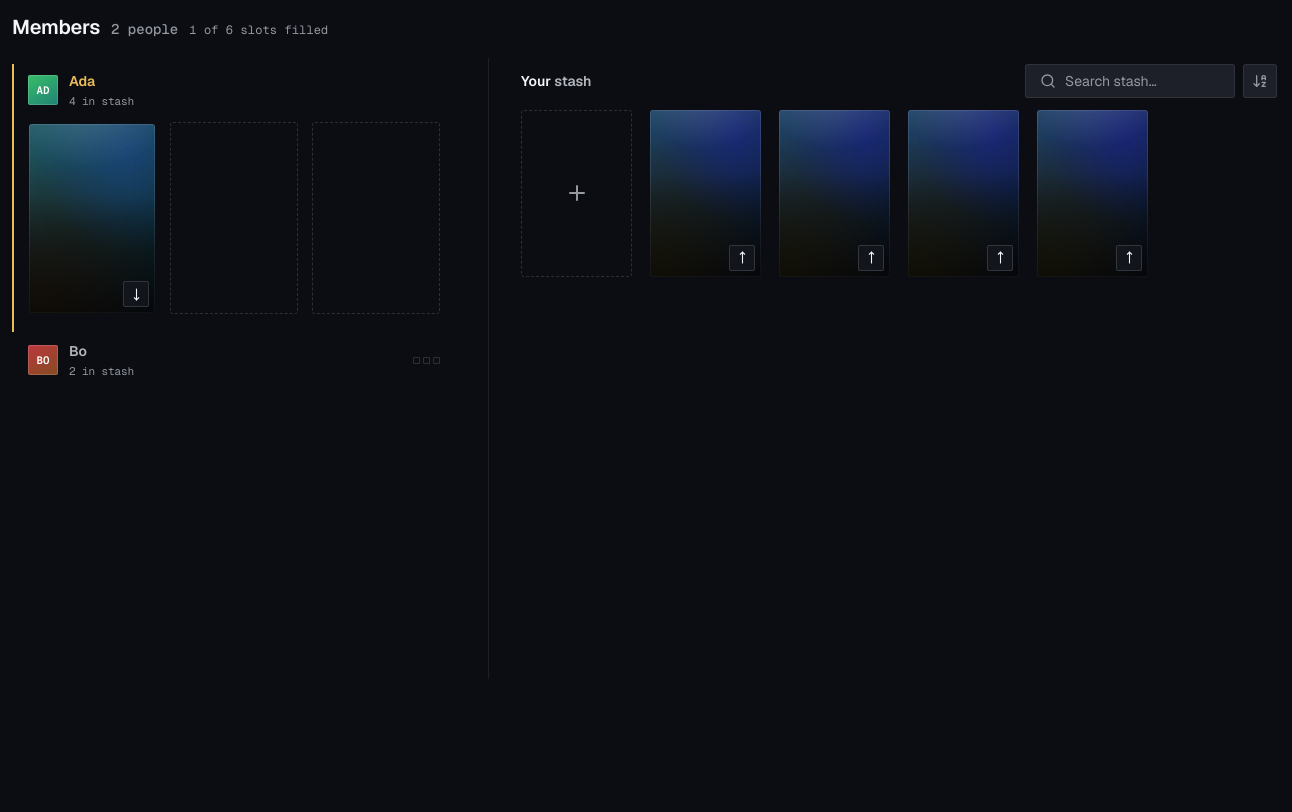
it: moving around the wall with the keyboard › is not a tab stop at all with no matches
In the field labelled "Search stash…": (1142, 81) left=1065, top=72, right=1220, bottom=90, type "zzz"
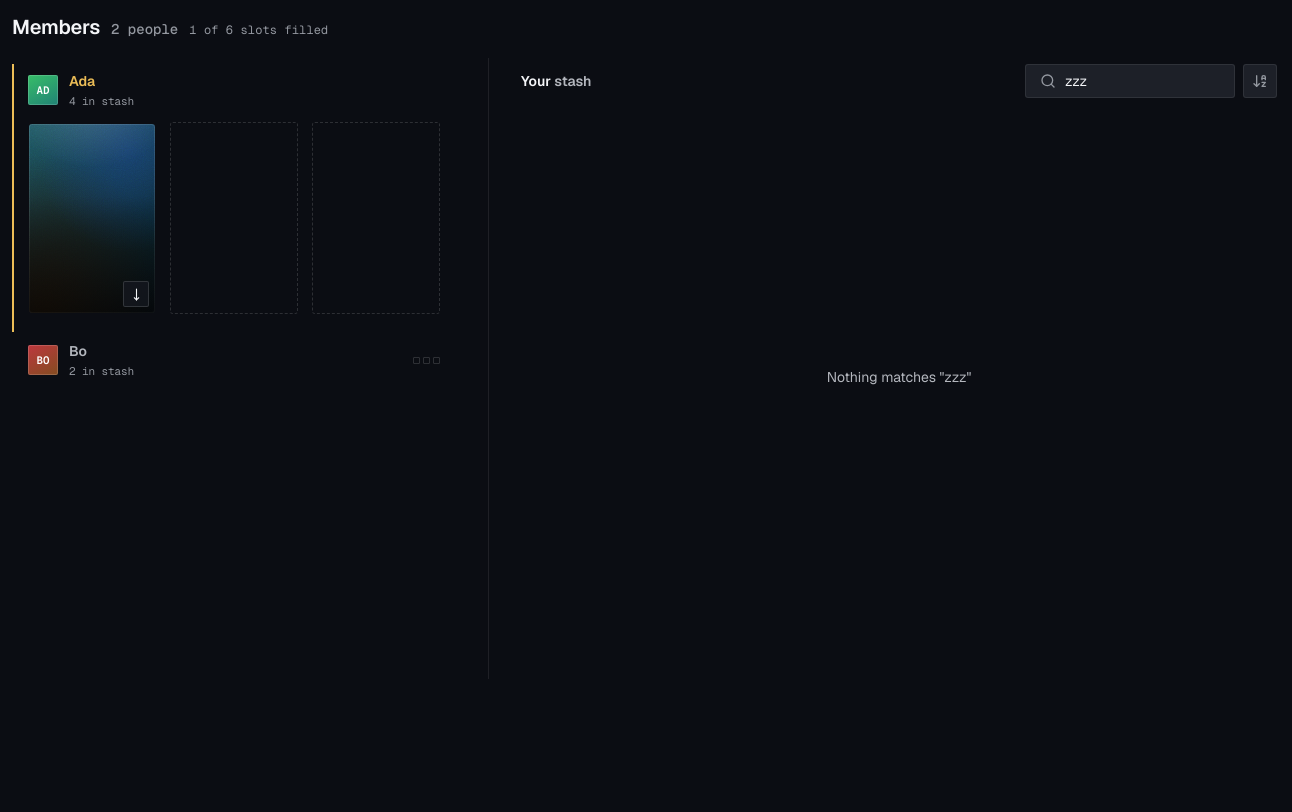
Result: the text with class "mem-wall__empty" reads "Nothing matches \"zzz\"" at left=827, top=368, right=971, bottom=386
